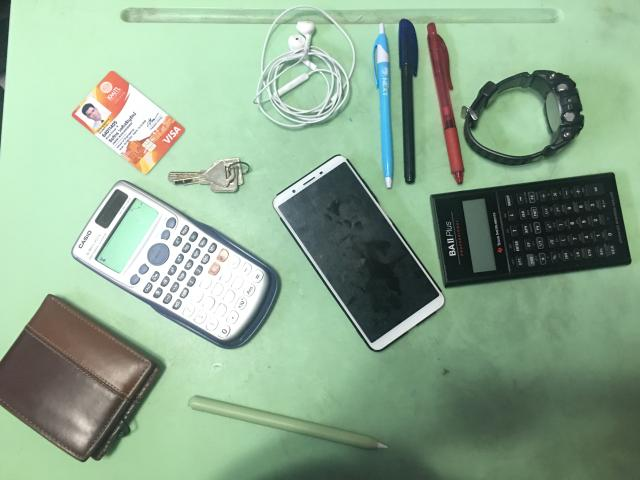Keys: (168, 158, 253, 196)
Mobile phone: (273, 155, 445, 353)
Pen: (373, 20, 464, 189)
Wallet: (0, 296, 165, 464)
Watch: (470, 71, 586, 165)
wire: (255, 21, 352, 131)
